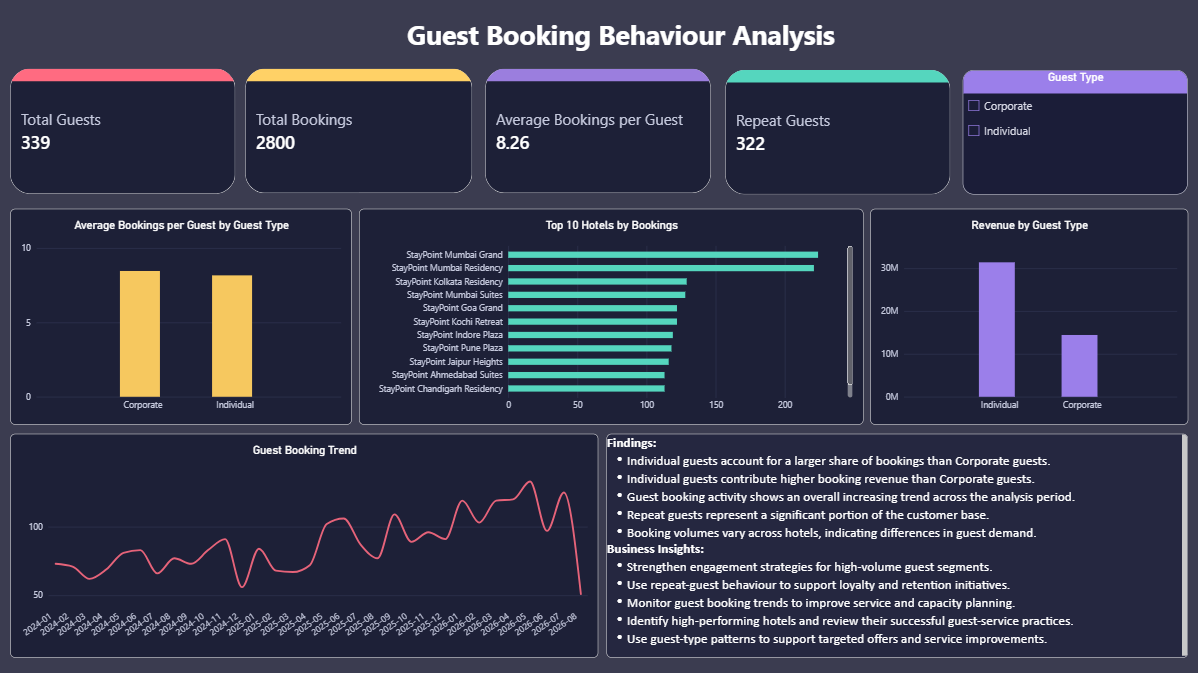

Layout of this report page (visuals, bound fields, positions):
{"tool":"powerbi","page":{"name":"5.2","canvas":[1920,1080],"ordinal":2},"visuals":[{"type":"cardVisual","title":"Total Guests","fields":{"Data":["bookings.Total Guests"]},"box":[18.1,110.4,360.1,200.9],"z":0},{"type":"cardVisual","title":"Total Bookings","fields":{"Data":["bookings.Total Bookings"]},"box":[394.5,110.4,363.7,199.1],"z":1000},{"type":"cardVisual","title":"Average Bookings per Guest","fields":{"Data":["bookings.Average Bookings per Guest"]},"box":[778.2,110.4,361.9,199.1],"z":2000},{"type":"cardVisual","title":"Repeat Guests","fields":{"Data":["bookings.Repeat Guests"]},"box":[1161.8,112.2,360.1,199.1],"z":3000},{"type":"clusteredColumnChart","title":"Average Bookings per Guest by Guest Type","fields":{"Category":["guests.guest_type"],"Y":["bookings.Average Bookings per Guest"]},"box":[18.8,333.8,546.5,345.6],"z":4000},{"type":"clusteredColumnChart","title":"Revenue by Guest Type","fields":{"Category":["guests.guest_type"],"Y":["bookings.Total Revenue"]},"box":[1393.4,333.8,508.5,345.6],"z":5000},{"type":"clusteredBarChart","title":"Top 10 Hotels by Bookings","fields":{"Category":["hotels.hotel_name"],"Y":["bookings.Total Bookings"]},"box":[575.7,333.8,807.1,345.6],"z":6000},{"type":"lineChart","title":"Guest Booking Trend","fields":{"Category":["DateTable.Year Month"],"Y":["bookings.Total Bookings"]},"box":[18.1,694.9,941,358.3],"z":7000},{"type":"textbox","box":[971.8,694.9,930.2,358.3],"z":8000},{"type":"textbox","box":[575.5,25.3,837.9,57.9],"z":9000},{"type":"slicer","title":"Guest Type","fields":{"Values":["guests.guest_type"]},"box":[1541.8,112.2,360.1,199.1],"z":10000}]}

Visuals, with their boxes in screenshot pixels (x1, y1, x2, y2), scaled from the page's 1920x1080 canvas onto the 1198x673 screenshot:
"Total Guests" cardVisual: rect(11, 69, 236, 194)
"Total Bookings" cardVisual: rect(246, 69, 473, 193)
"Average Bookings per Guest" cardVisual: rect(486, 69, 711, 193)
"Repeat Guests" cardVisual: rect(725, 70, 950, 194)
"Average Bookings per Guest by Guest Type" clusteredColumnChart: rect(12, 208, 353, 423)
"Revenue by Guest Type" clusteredColumnChart: rect(869, 208, 1187, 423)
"Top 10 Hotels by Bookings" clusteredBarChart: rect(359, 208, 863, 423)
"Guest Booking Trend" lineChart: rect(11, 433, 598, 656)
textbox: rect(606, 433, 1187, 656)
textbox: rect(359, 16, 882, 52)
"Guest Type" slicer: rect(962, 70, 1187, 194)
